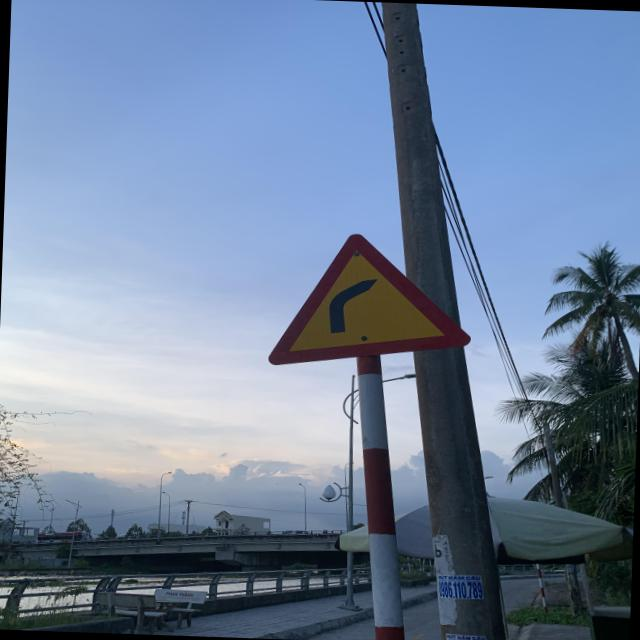Duong_Nguoi_Di_Bo_Cat_Ngang: (268, 227, 476, 376)
